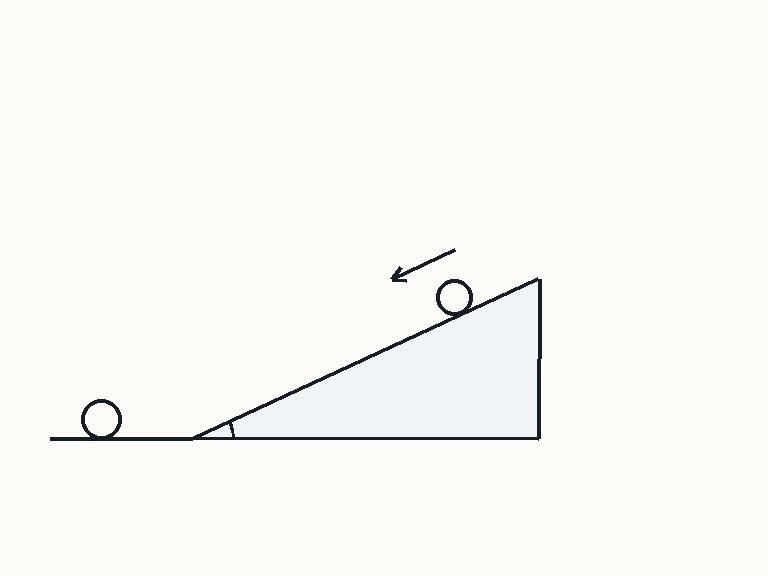ball: (79, 397, 123, 441), (434, 277, 474, 317)
ramp: (191, 276, 540, 441)
